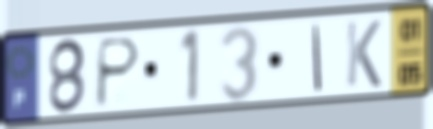1: (178, 26, 200, 105)
3: (219, 20, 263, 106)
8: (46, 35, 87, 116)
I: (310, 22, 324, 94)
K: (343, 17, 384, 90)
P: (92, 35, 144, 111)
